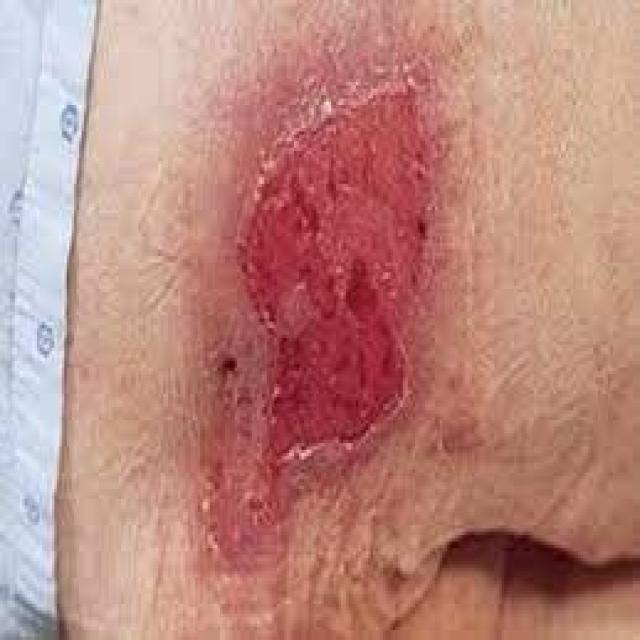stage-2: (236, 83, 445, 470)
